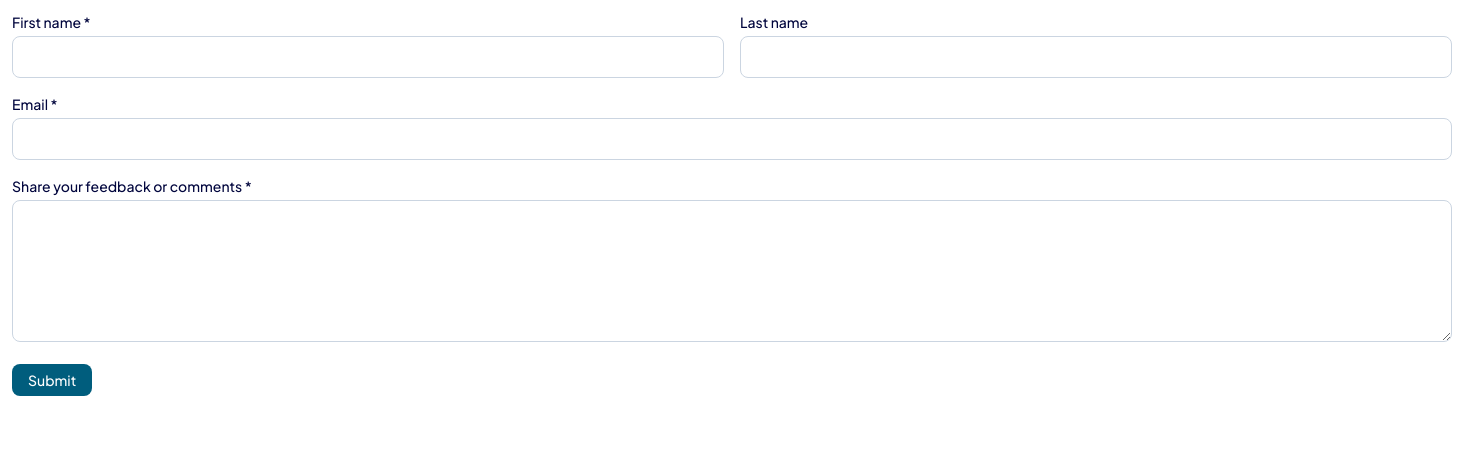
ContactForm › shows an error when sending fails
Type "Aroha" into the field labelled "First name *". click: (368, 57)
box: [12,36,724,78]
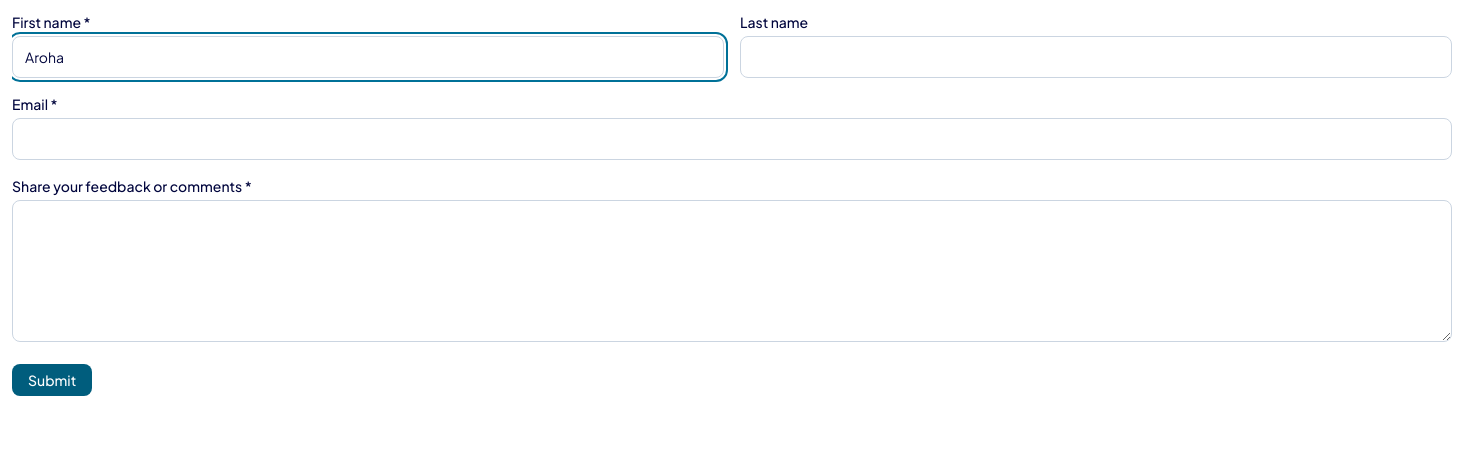
Type "a@example.com" into the field labelled "Email *". click: (732, 139)
box: [12,118,1452,160]
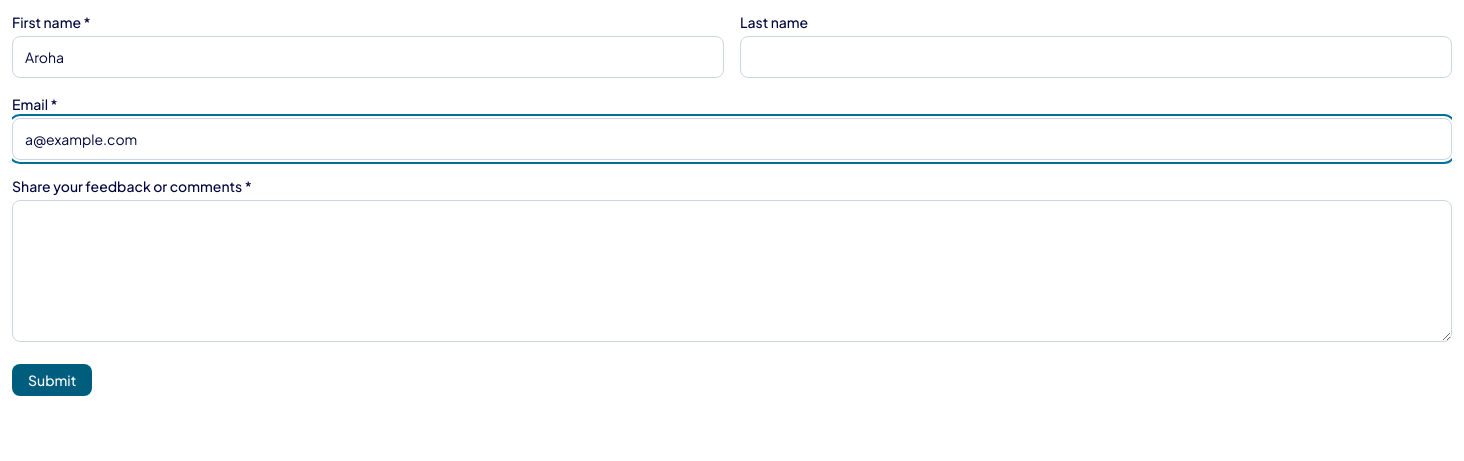
Type "Hi" into the text box labelled "Share your feedback or comments *". click: (732, 271)
box: [12,200,1452,342]
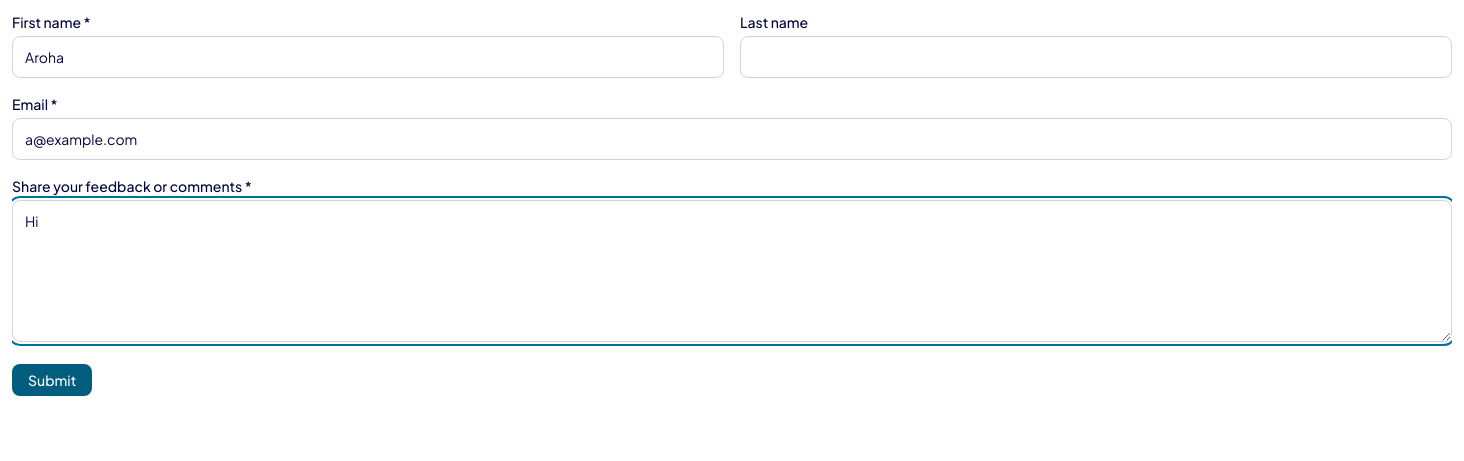
Click the button "Submit". click: (52, 380)
box: [12,364,92,396]
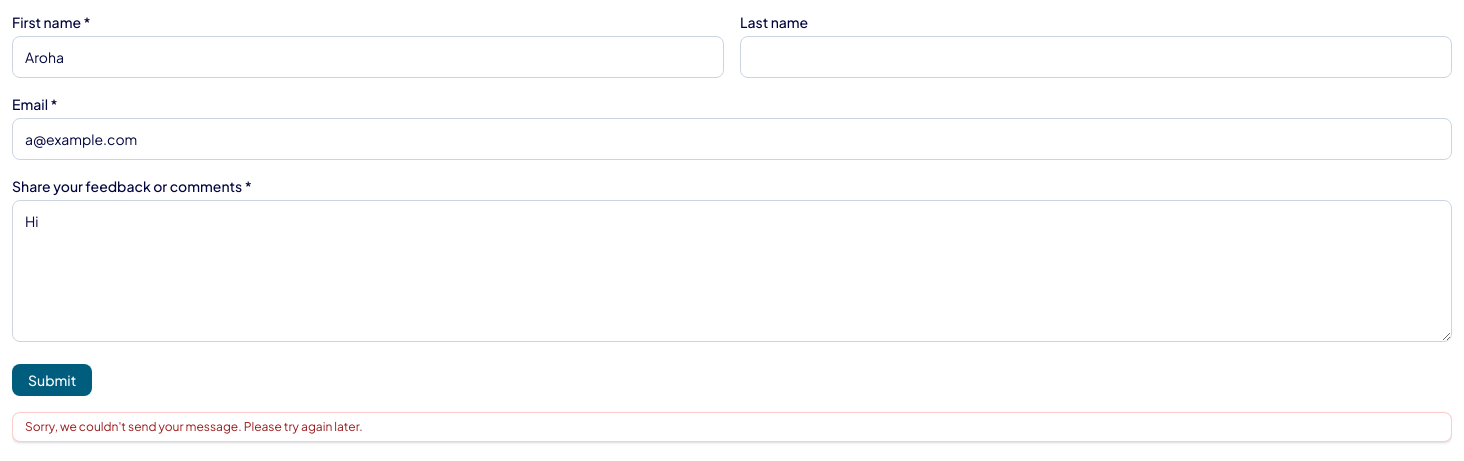
Expected: the text "Sorry, we couldn't send your message. Please try again later." is shown, [25,419,363,435]
